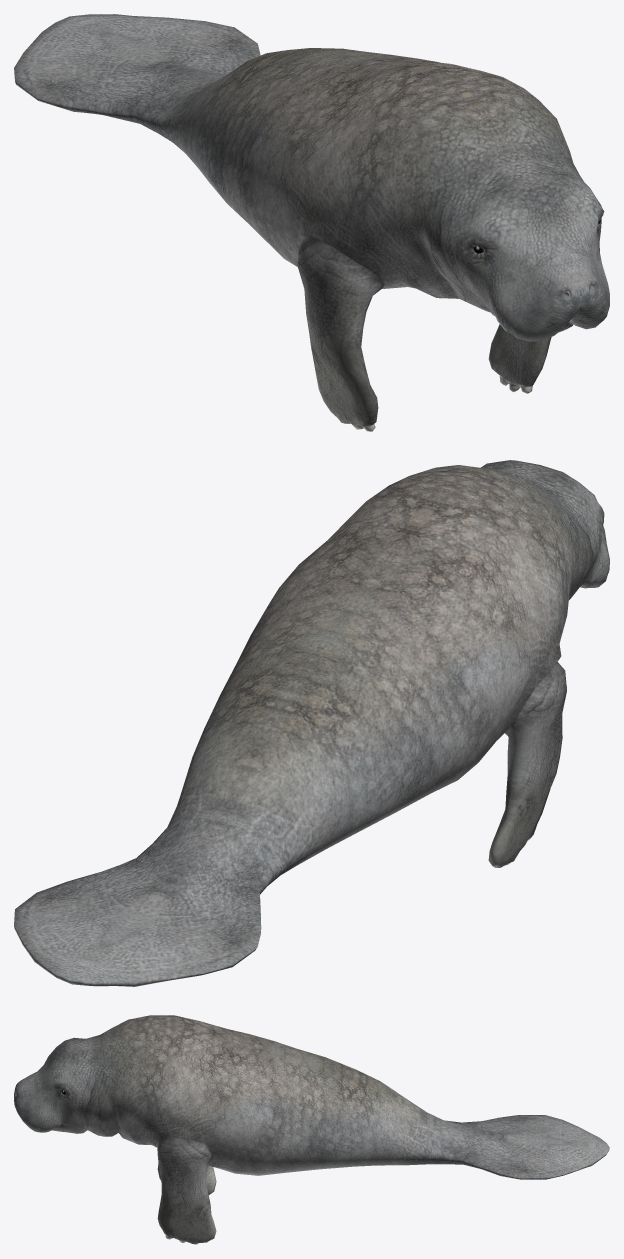
Rendered from manati.glb.
3 views of the same model, one above another, from view 1: azimuth 30°, elevation 25°; view 2: azimuth 150°, elevation 25°; view 3: azimuth 270°, elevation 25° (orthographic). The views are drawn at different scales.
Visible parts, largest first — view 1: Manatees_obj_0; view 2: Manatees_obj_0; view 3: Manatees_obj_0.
Boxes of the visible parts, <box> form: Manatees_obj_0: <box>14,14,609,431</box>; Manatees_obj_0: <box>14,460,609,986</box>; Manatees_obj_0: <box>14,1015,609,1244</box>.
Size of the model in its own units: 72.01 by 91.93 by 250.
1 material, 1 textured.
